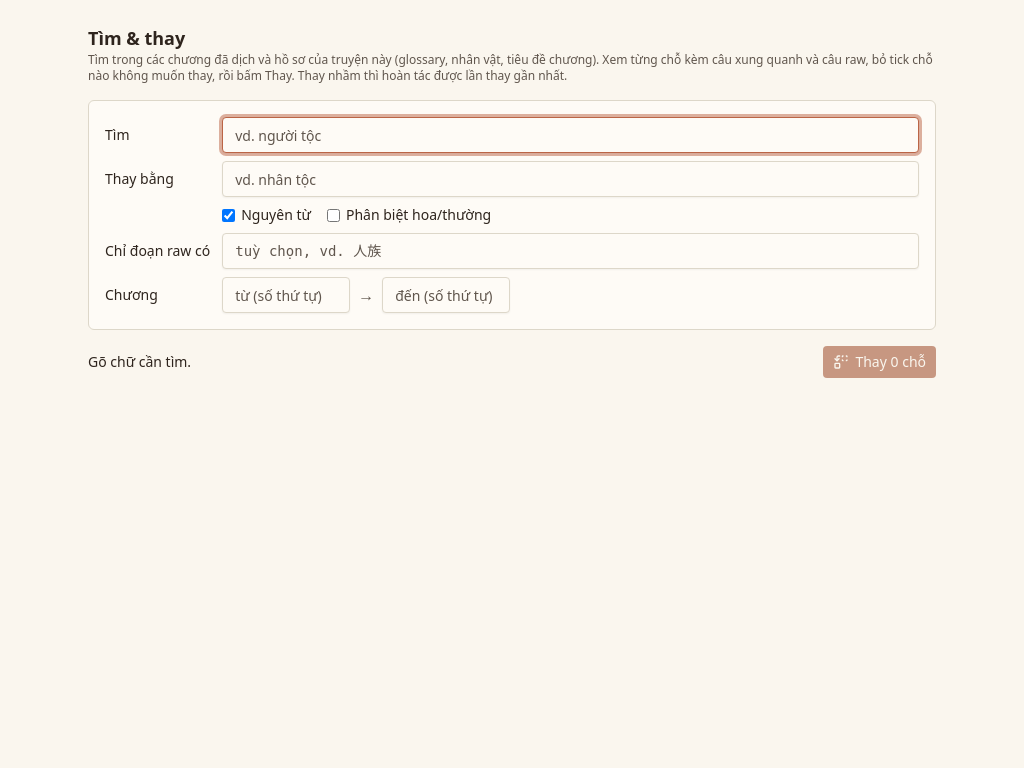
Test case: ReplacePage › gõ để tìm, xem ngữ cảnh + raw, bỏ chọn một chỗ rồi thay phần còn lại
In the field labelled "Tìm": (571, 135) left=222, top=117, right=919, bottom=153, type "người tộc"
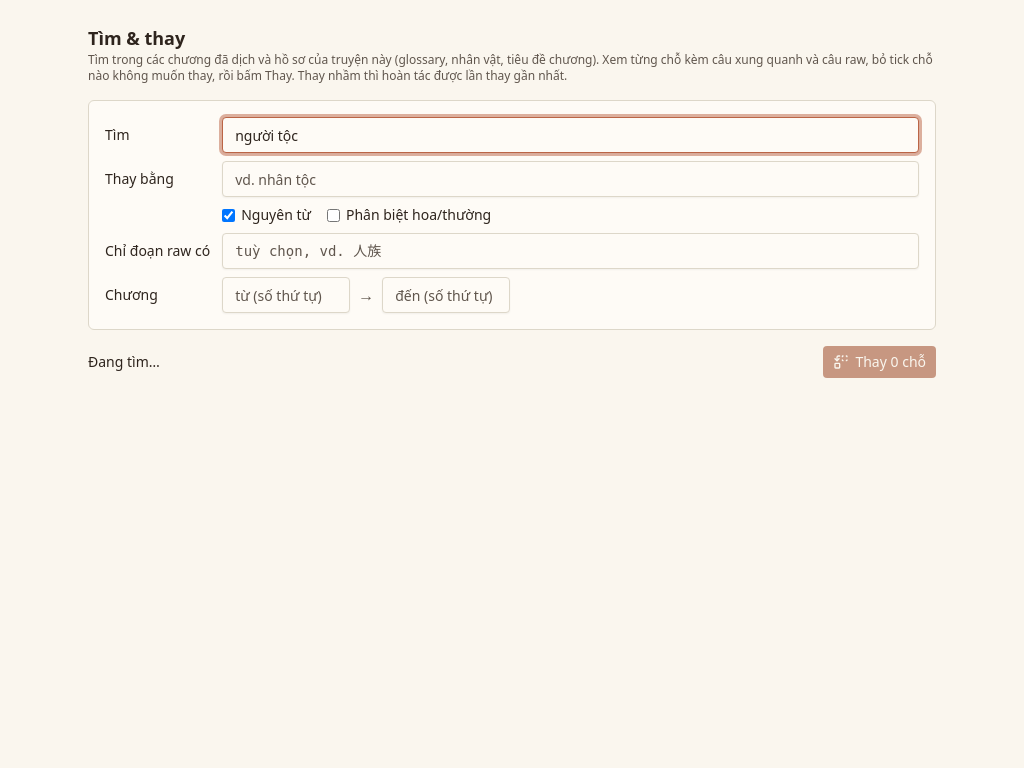
In the field labelled "Thay bằng": (571, 179) left=222, top=161, right=919, bottom=197, type "nhân tộc"
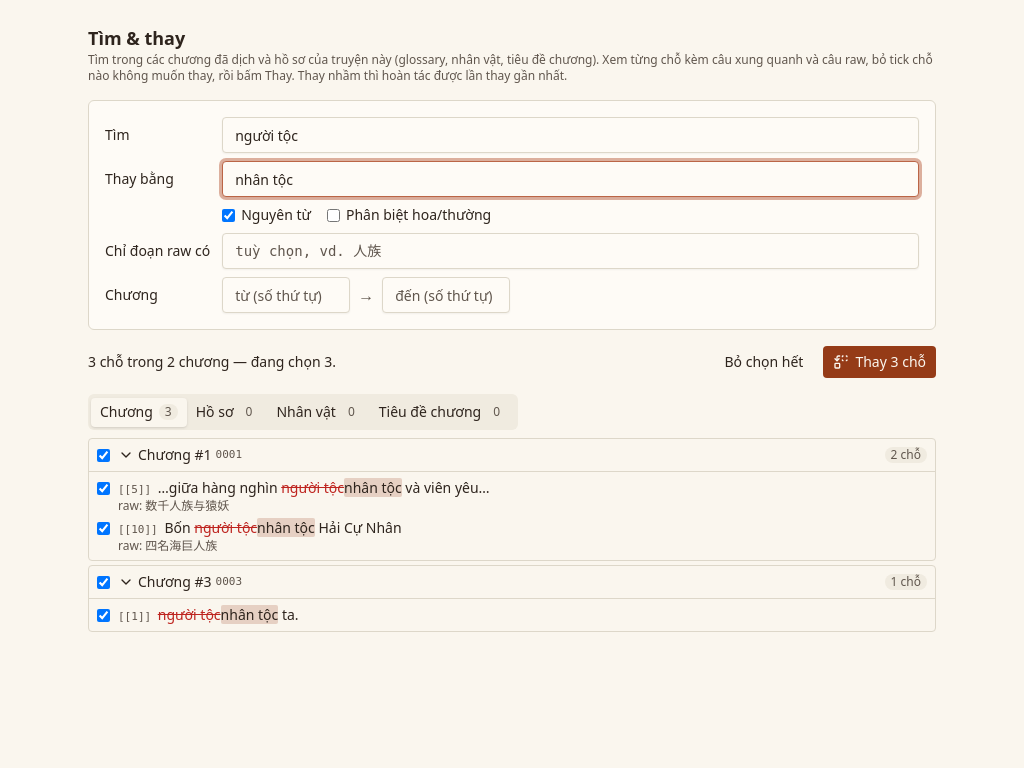
Check: the text "3 chỗ trong 2 chương — đang chọn 3." is shown, box left=88, top=352, right=336, bottom=371
Check: the text "raw: 四名海巨人族" is shown, box left=118, top=537, right=217, bottom=554
Check: the 1st text "nhân tộc" is shown, box left=344, top=478, right=402, bottom=497
Click the checkbox named "Chọn chỗ Chương #1 đoạn 10": (104, 528) left=97, top=522, right=110, bottom=535
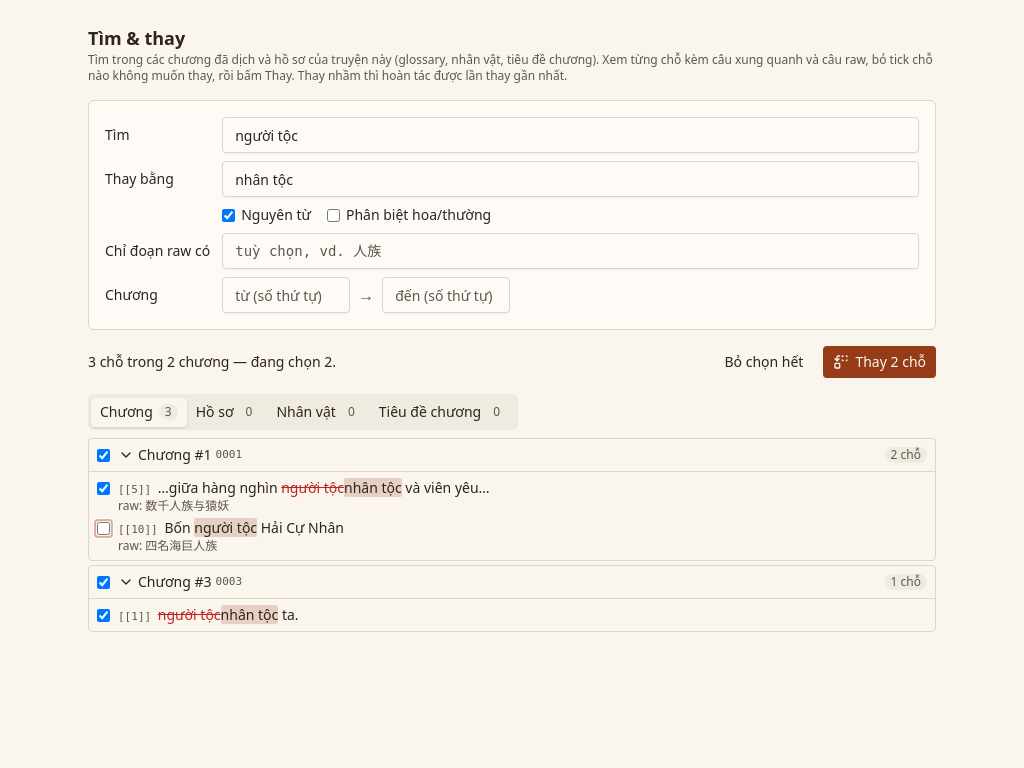
Check: the text "3 chỗ trong 2 chương — đang chọn 2." is shown, box left=88, top=352, right=336, bottom=371
Click the button "Thay 2 chỗ": (880, 362) left=823, top=346, right=936, bottom=378
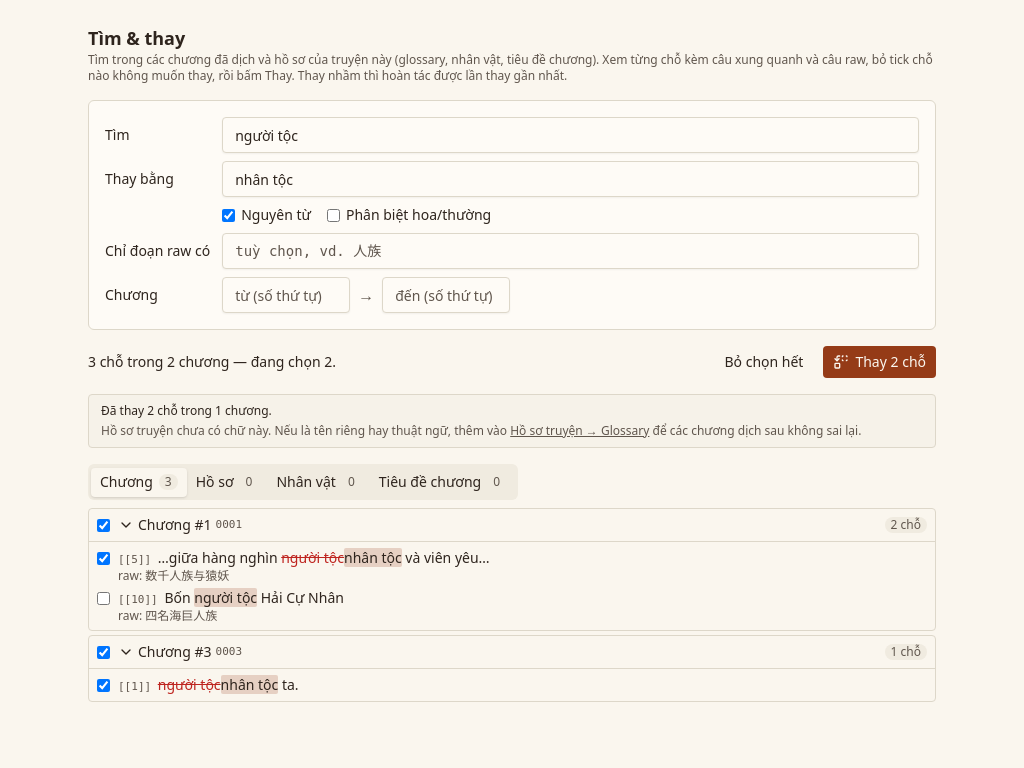
Check: the text "Đã thay 2 chỗ trong 1 chương." is shown, box left=101, top=402, right=272, bottom=419
Check: the button "Hồ sơ truyện → Glossary" is shown, box left=510, top=423, right=649, bottom=439
